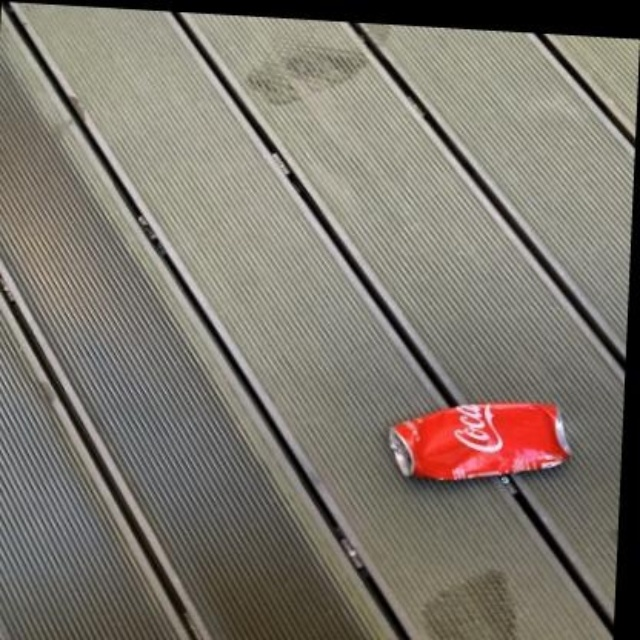trash: (389, 403, 569, 478)
